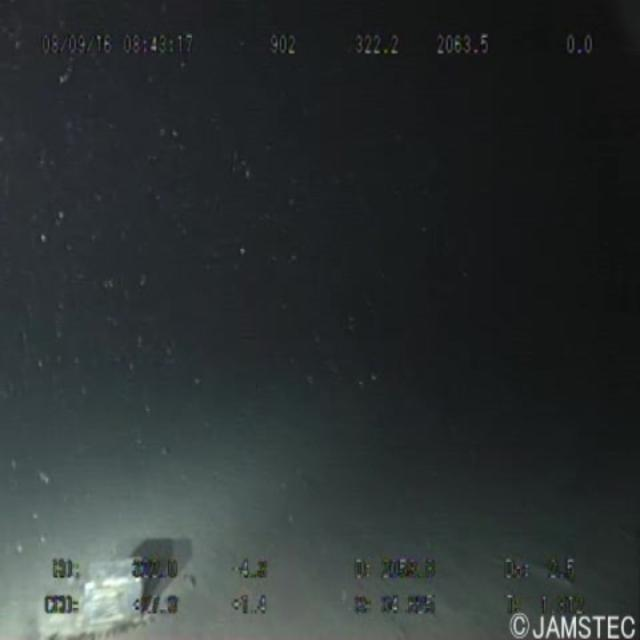Glass: (65, 542, 169, 640)
